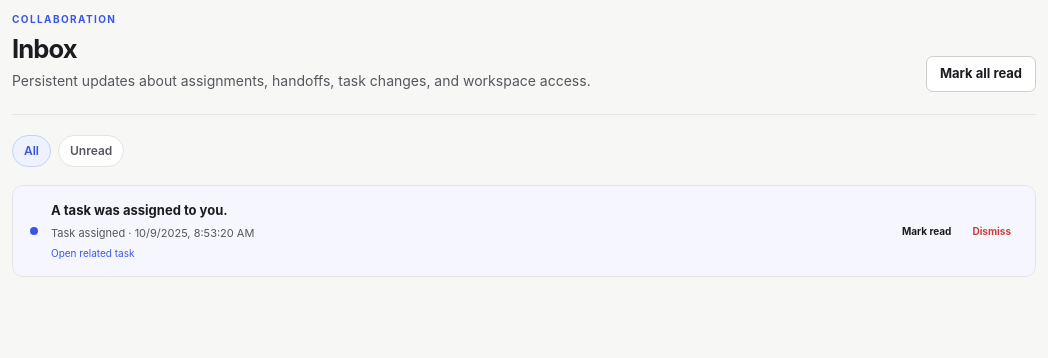
Scenario: InboxPage › rolls a failed dismissal back into the list
This screenshot has width=1048, height=358.
Expected: the text "A task was assigned to you." is shown, [51, 202, 228, 218]
Step 1. Click the button "Dismiss" → (992, 231), box [965, 219, 1018, 244]
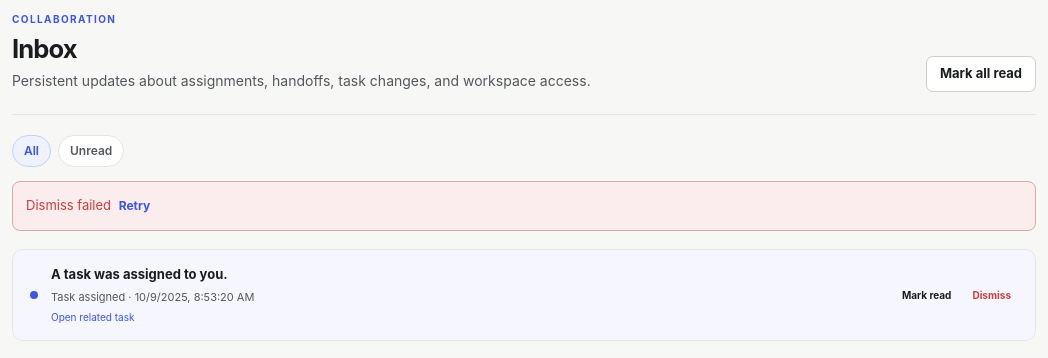
Expected: the text "A task was assigned to you." is shown, [51, 266, 228, 282]
Result: the message shows "Dismiss failed" at [26, 197, 111, 213]
